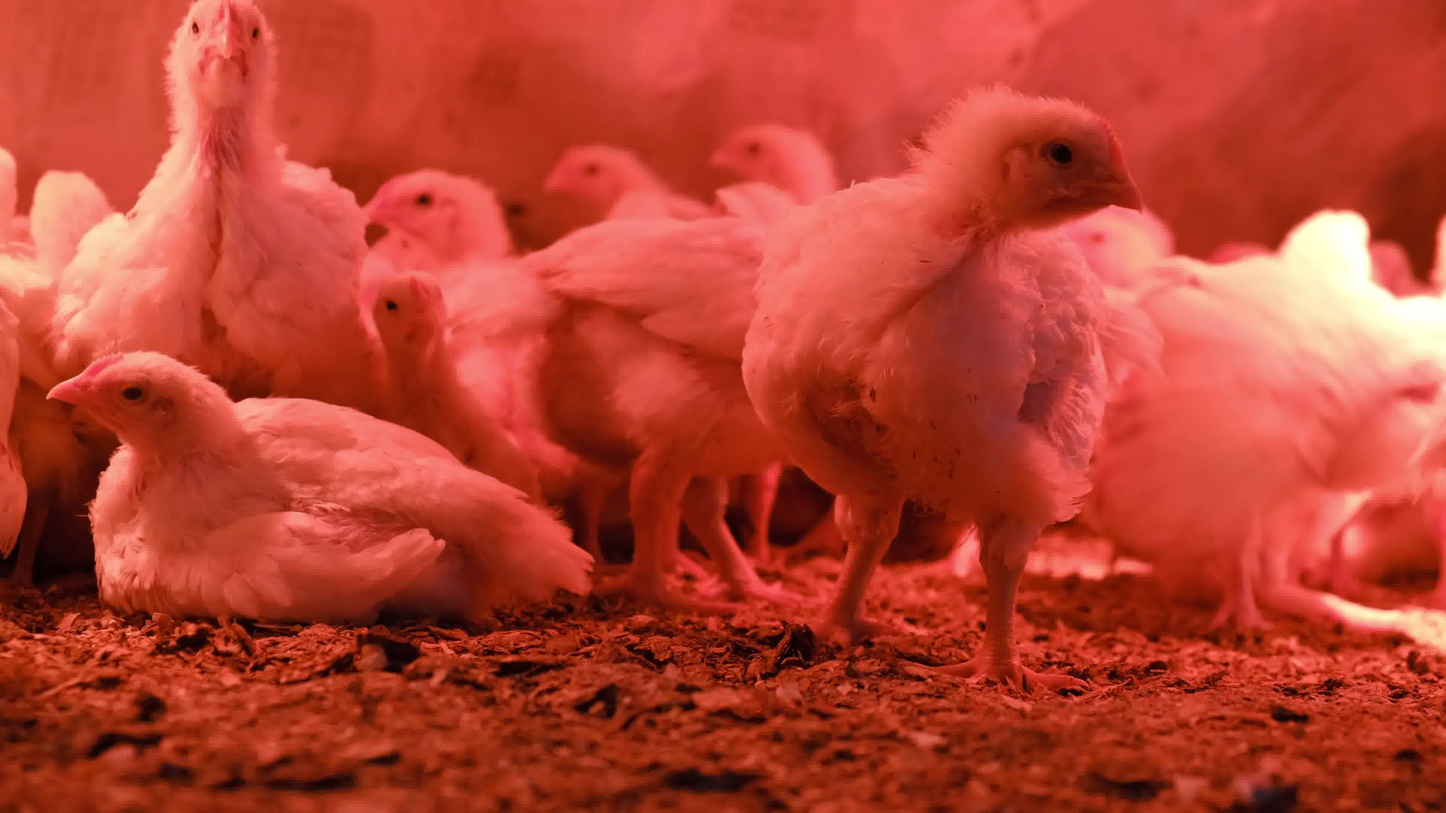AbNormal: (40, 348, 590, 620)
Normal: (737, 83, 1147, 693), (58, 0, 377, 422), (1096, 273, 1443, 649), (366, 271, 551, 514), (363, 166, 524, 265), (712, 117, 842, 213), (33, 164, 119, 273), (548, 143, 674, 216), (1066, 204, 1168, 289), (1260, 209, 1379, 277)
